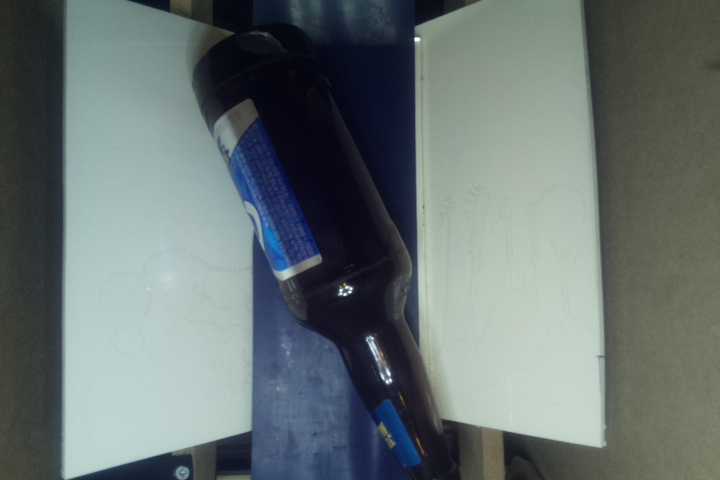makju: (191, 22, 452, 480)
